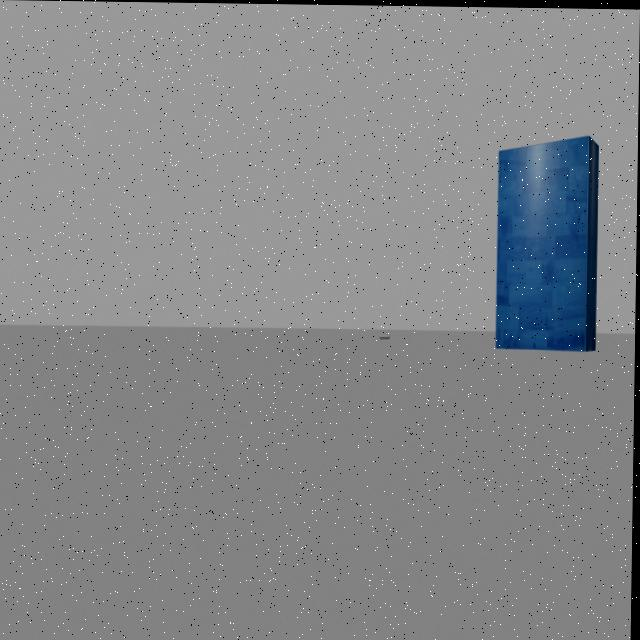bowl: (377, 331, 395, 345)
shelf: (490, 123, 609, 360)
